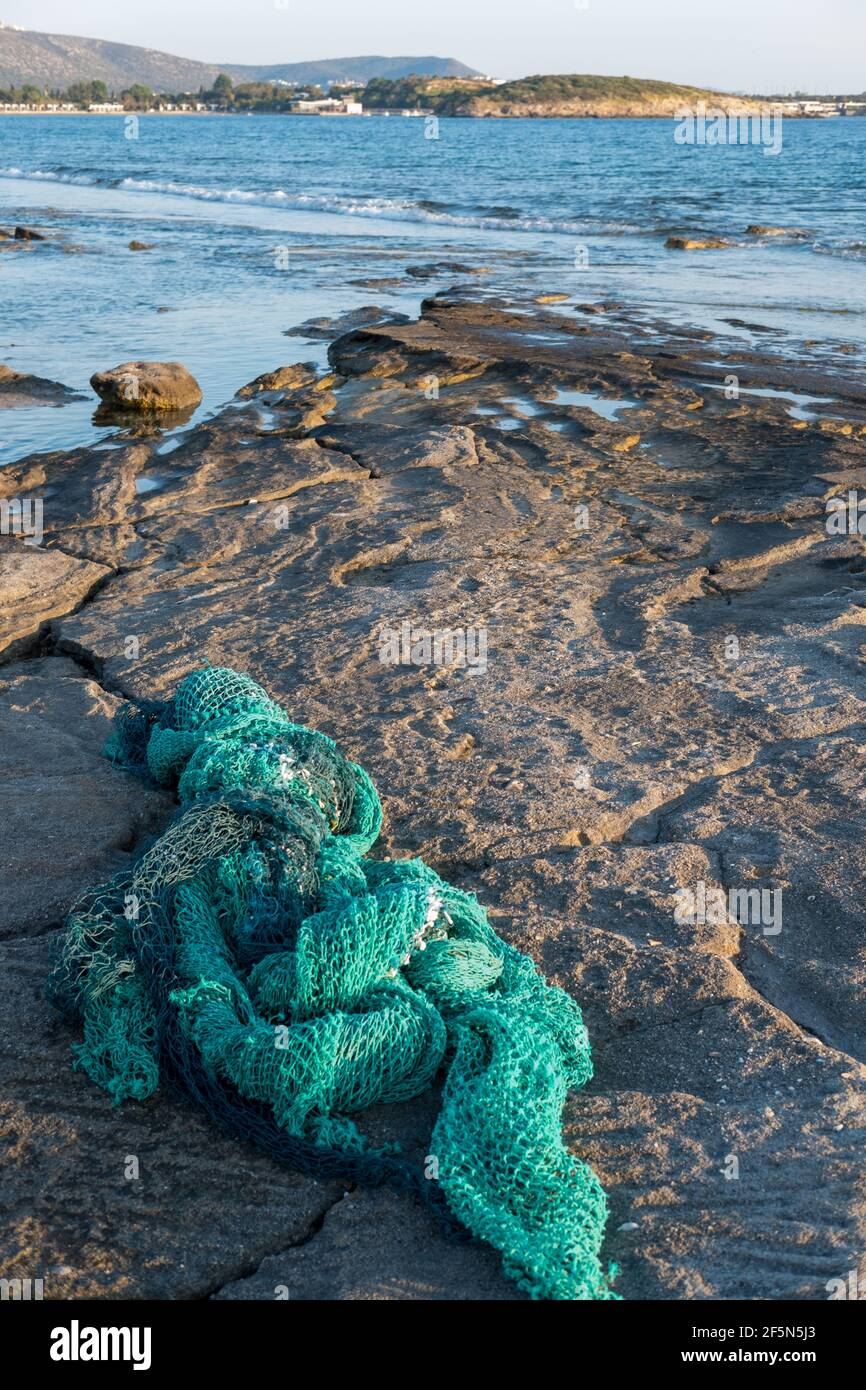fishingnet: (45, 655, 627, 1296)
